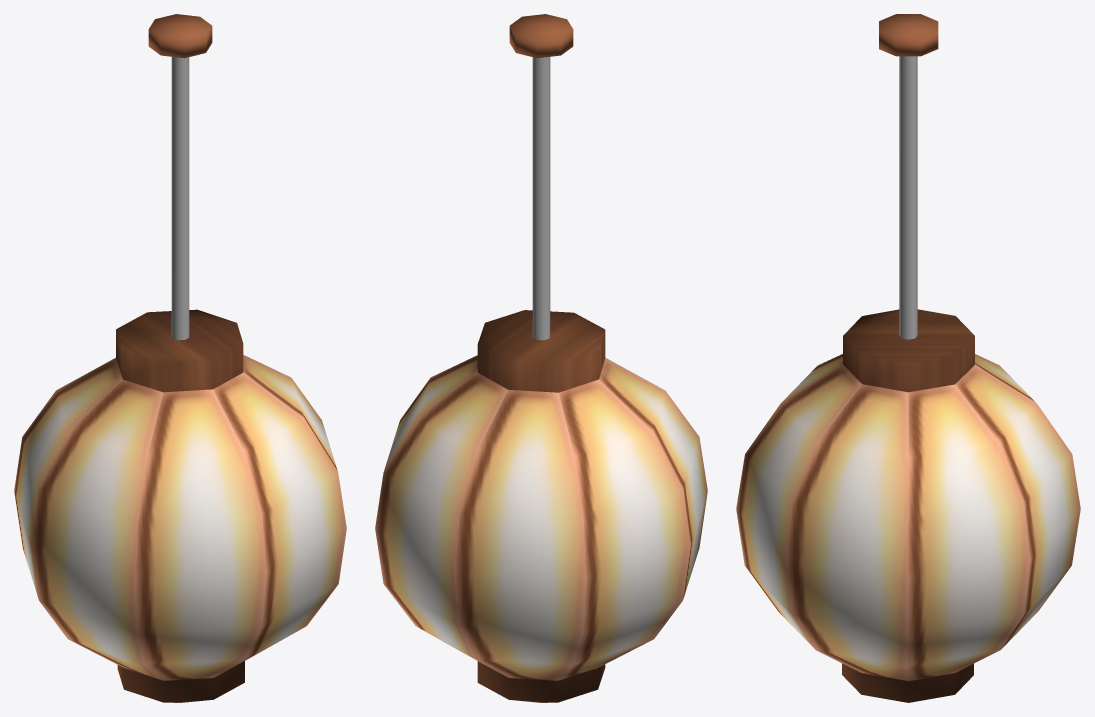
The model's file is modern_light.fbx.
3 views of the same model, side by side, from view 1: azimuth 30°, elevation 25°; view 2: azimuth 150°, elevation 25°; view 3: azimuth 270°, elevation 25° (orthographic).
Parts seen in each view (by area): view 1: modern_light; view 2: modern_light; view 3: modern_light.
Boxes of the visible parts, bbox=[...] form: modern_light: bbox=[14, 14, 346, 702]; modern_light: bbox=[375, 14, 707, 702]; modern_light: bbox=[736, 14, 1080, 702].
Bounding box in the file's own units: 35.63 × 77.23 × 35.63.
